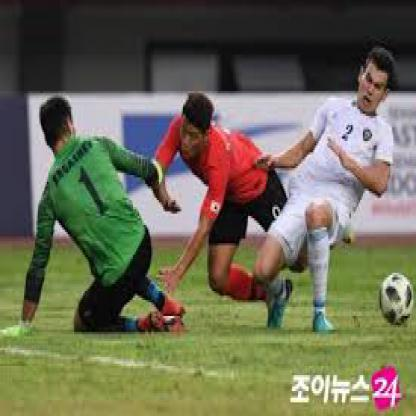Fall_Down: (250, 44, 398, 335)
